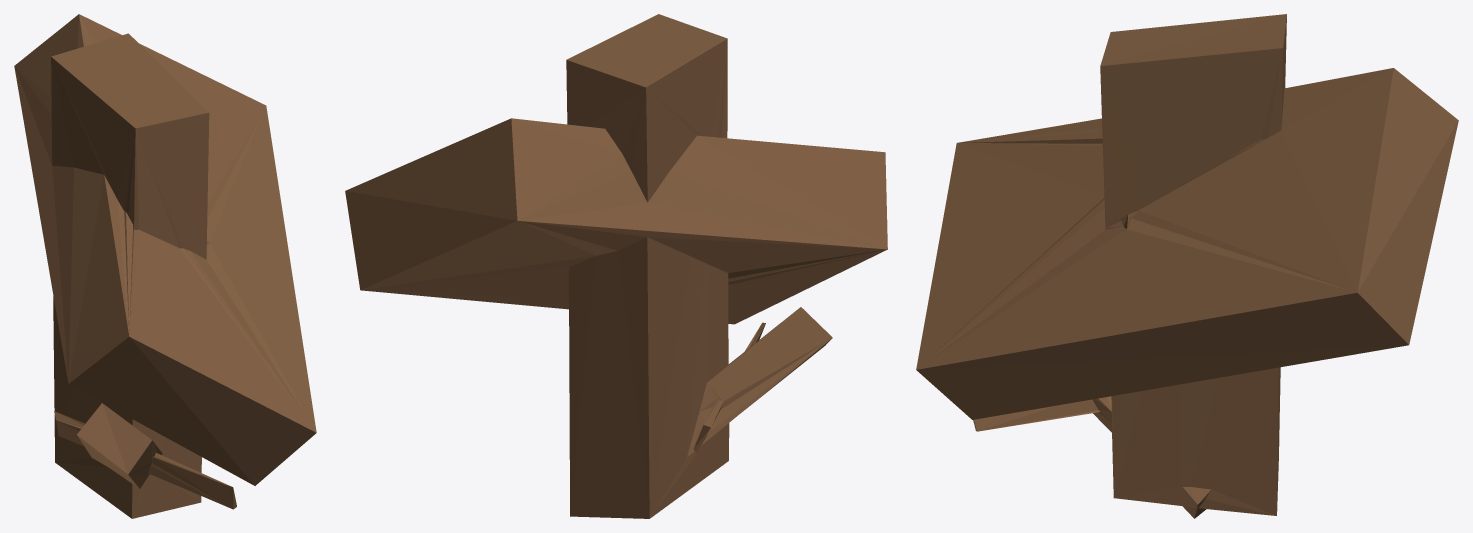
The picture shows the model from 3 angles, left to right: view 1: azimuth 30°, elevation 25°; view 2: azimuth 150°, elevation 25°; view 3: azimuth 270°, elevation 25°; orthographic projection. The views are drawn at different scales.
Parts seen in each view (by area): view 1: 689_Cube.2768; view 2: 689_Cube.2768; view 3: 689_Cube.2768.
Boxes of the visible parts, x1,y1,x2,y2 form: 689_Cube.2768: (14,14,316,518); 689_Cube.2768: (345,14,887,518); 689_Cube.2768: (916,14,1458,518).
Size of the model in its own units: 10.36 by 12.36 by 12.63.
